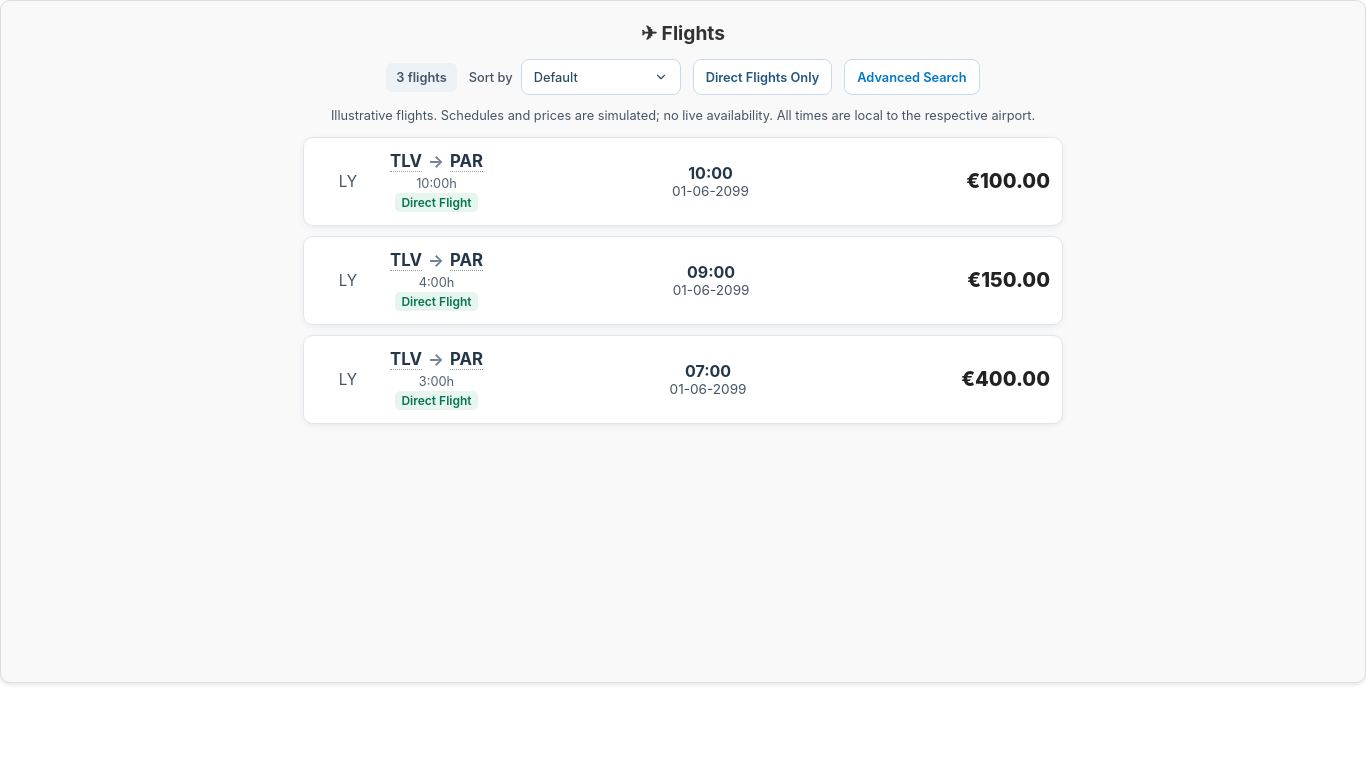
Test: flight sorting supports value, duration and departure without another request
Check: the text "€100.00" is shown, box [966,169,1050,193]
Select "Best value" in the dropdown labelled "Sort by" at (601, 77), box [521,59,681,95]
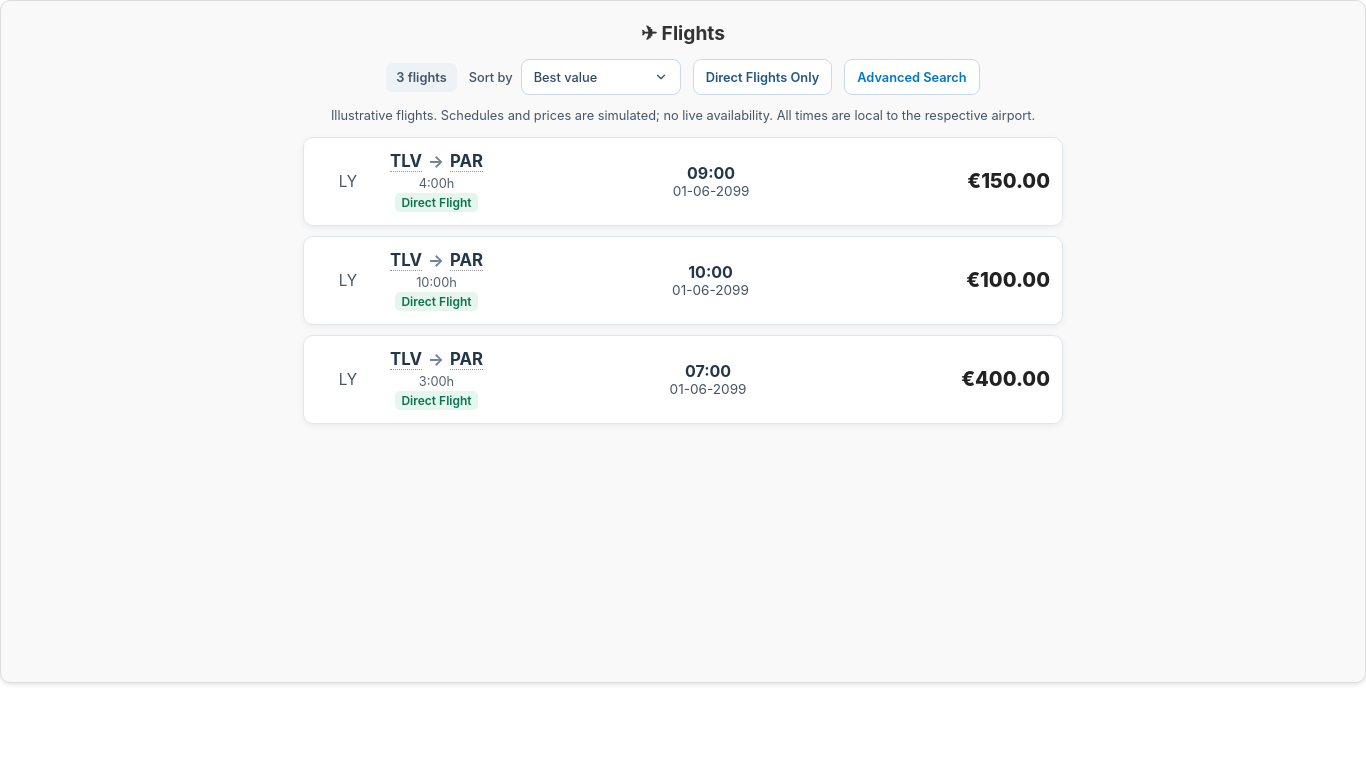
Check: the button with aria-label "Flight 1 details" shows "€150.00", box [316,147,1050,216]
Select "Fastest flights" in the dropdown labelled "Sort by" at (601, 77), box [521,59,681,95]
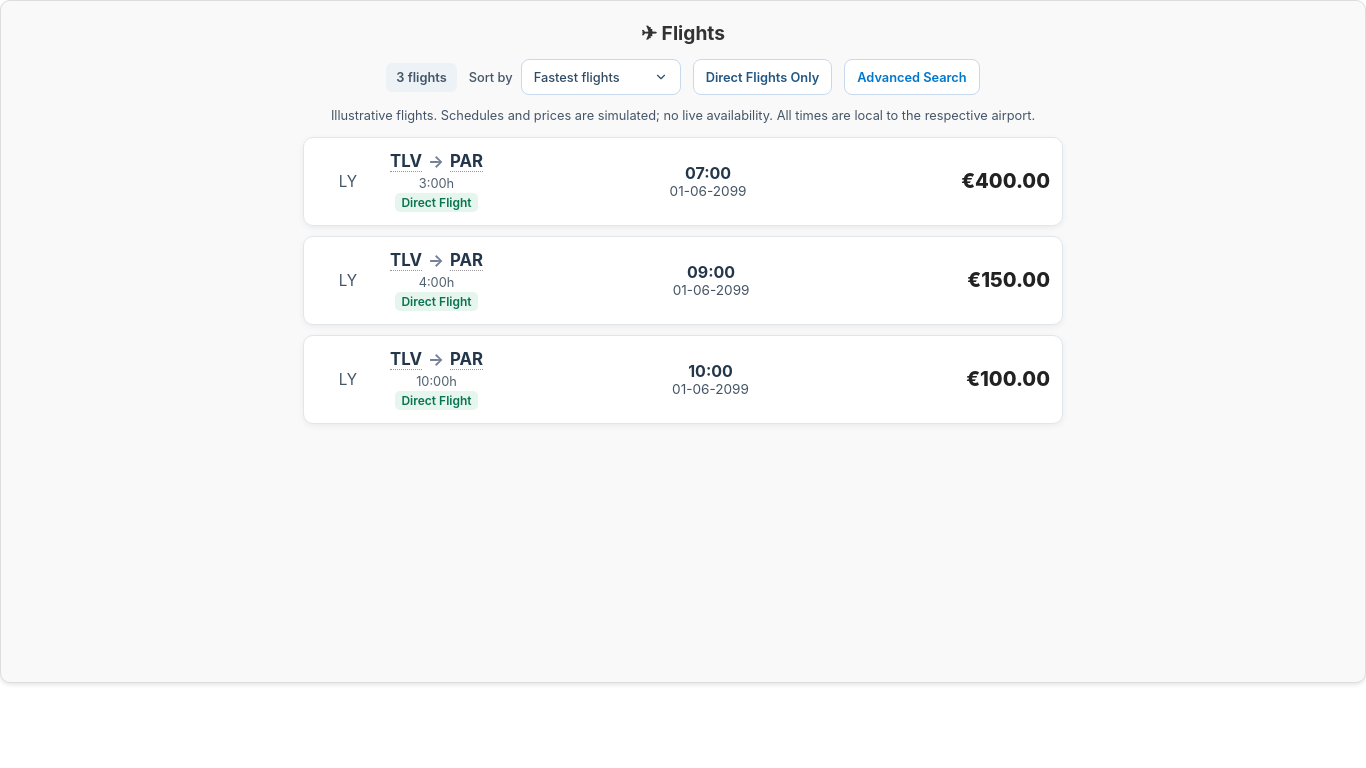
Check: the button with aria-label "Flight 1 details" shows "€400.00", box [316,147,1050,216]
Select "Earliest departure" in the dropdown labelled "Sort by" at (601, 77), box [521,59,681,95]
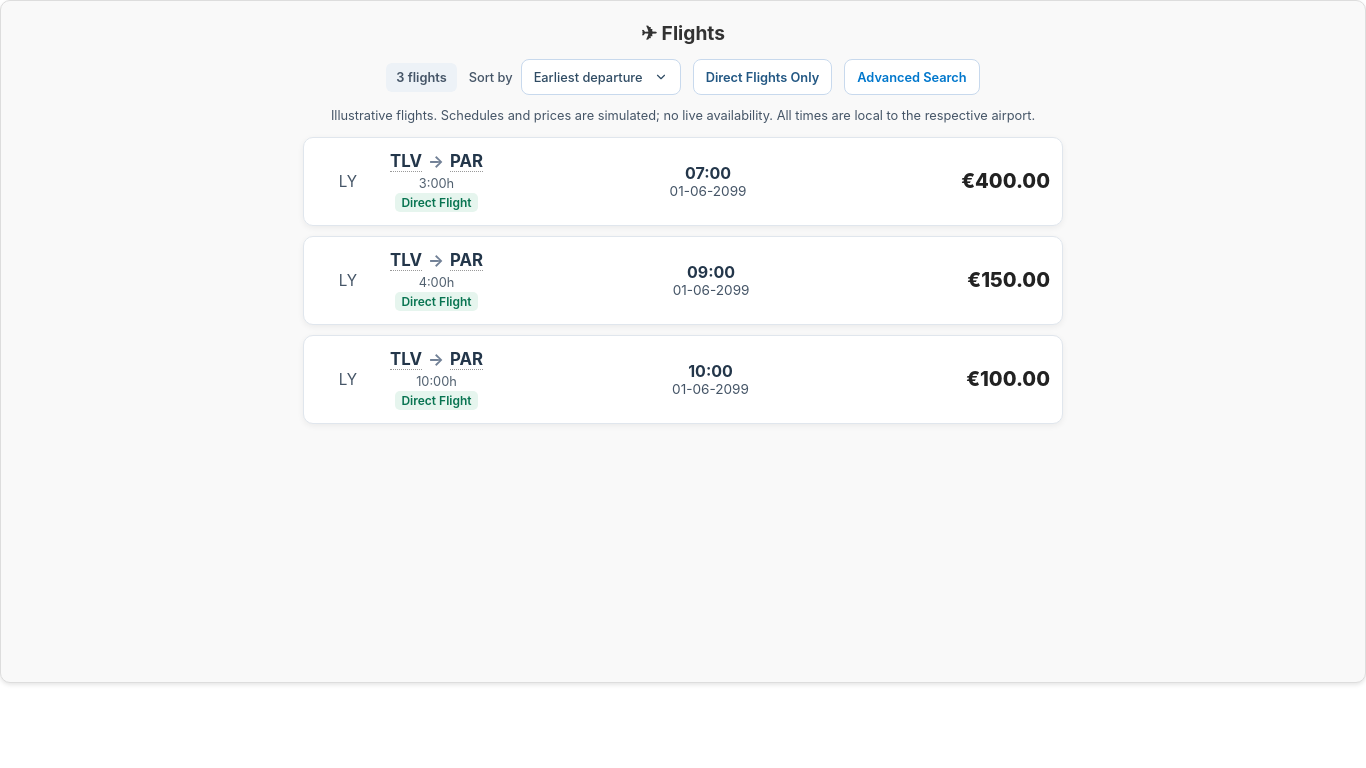
Check: the button with aria-label "Flight 1 details" shows "€400.00", box [316,147,1050,216]
Select "Default" in the dropdown labelled "Sort by" at (601, 77), box [521,59,681,95]
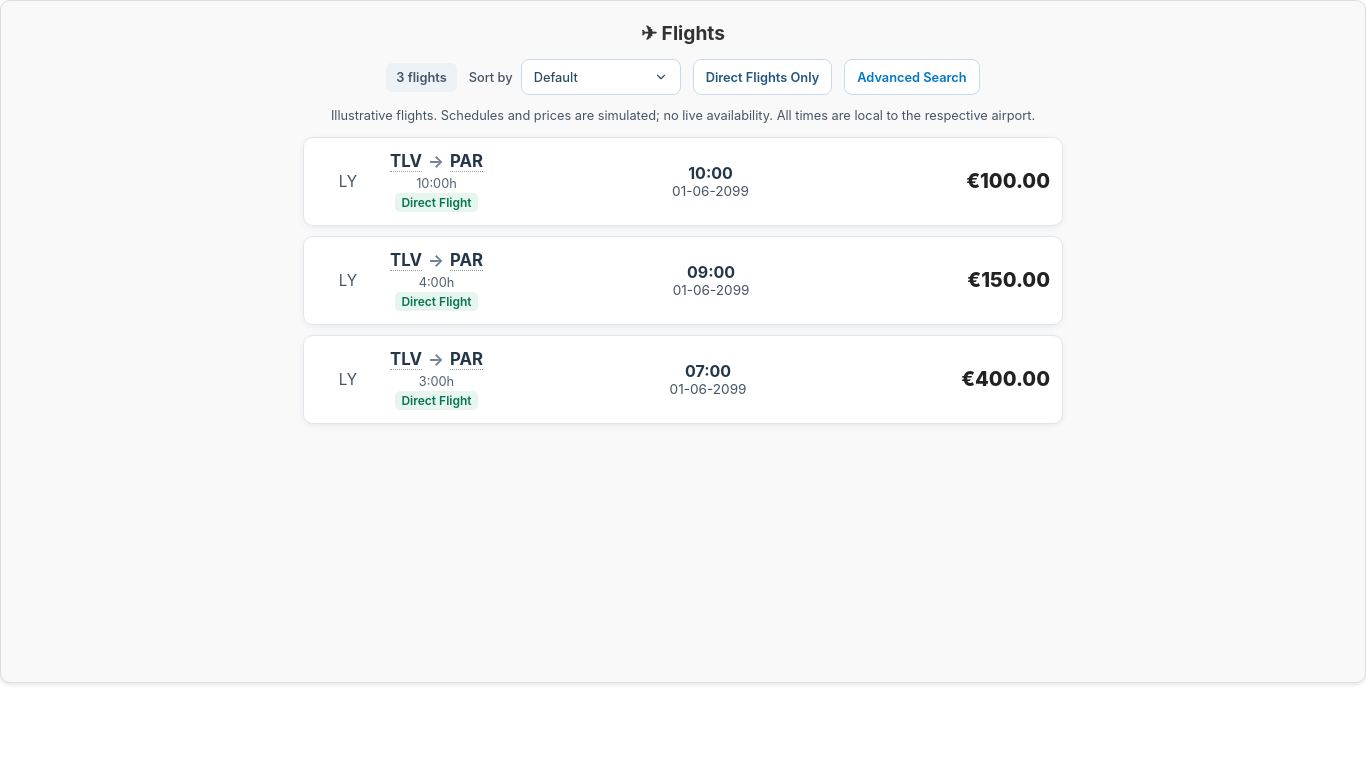
Check: the button with aria-label "Flight 1 details" shows "€100.00", box [316,147,1050,216]
